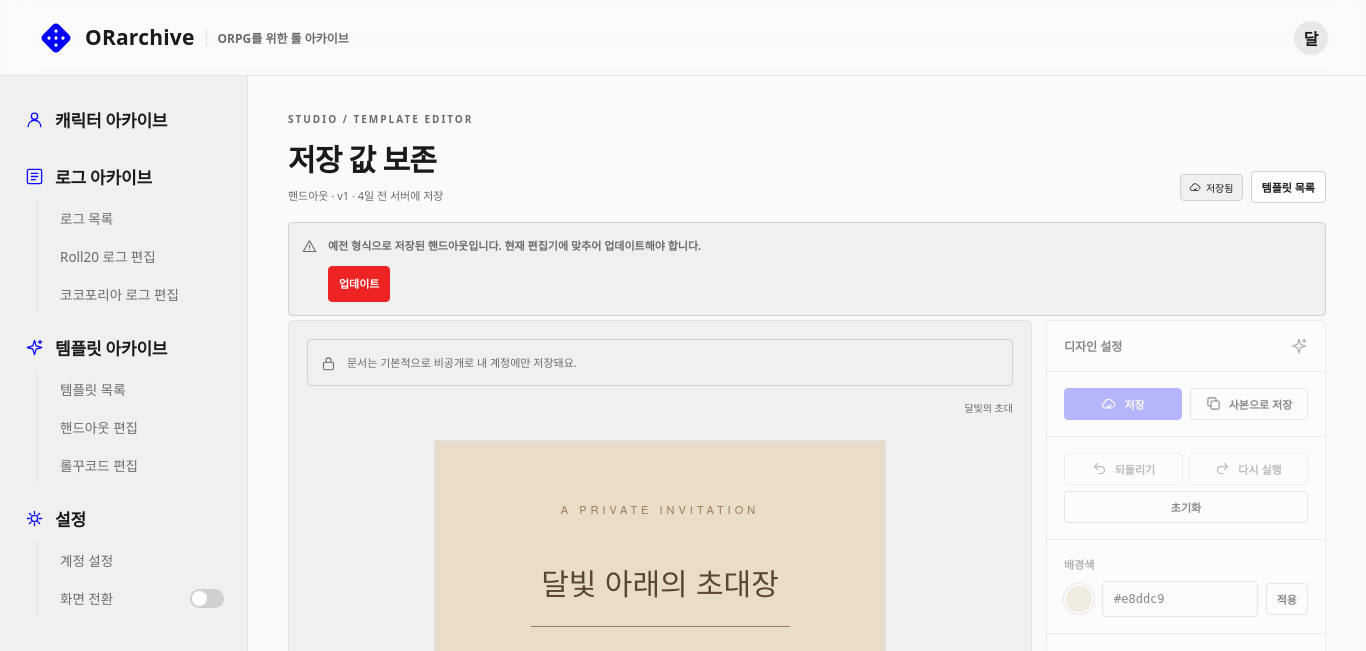
Test case: 핸드아웃 스튜디오 — 블록 편집도 고친 값만 저장된다 › Phase 1 의 { text: "" }: 빈 본문으로 보이고, 다른 블록을 고치면 템플릿 · 빈 본문 블록을 적되 text 는 그대로
Later steps or results of the test are not shown.
Click the button "업데이트": [359, 284] box 328,266 -> 390,302
Wait 800 ms
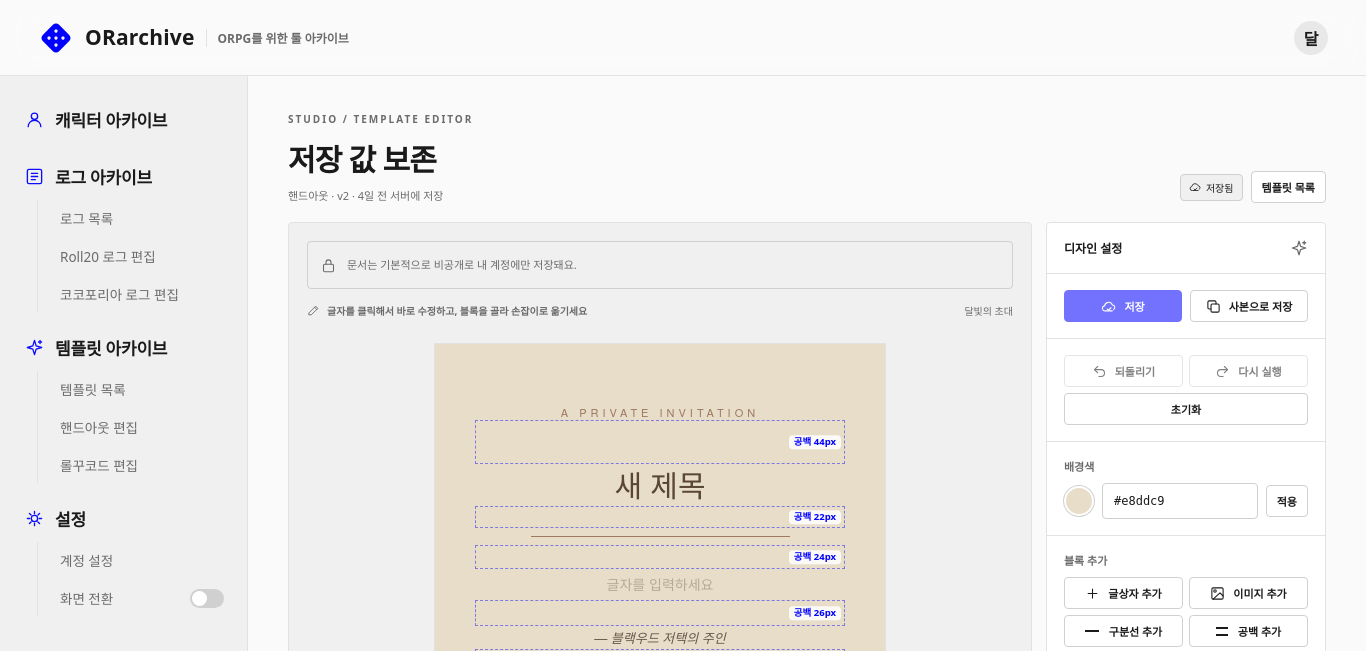
Expected: the field named "텍스트 블록" is empty, 475,569 -> 845,600
